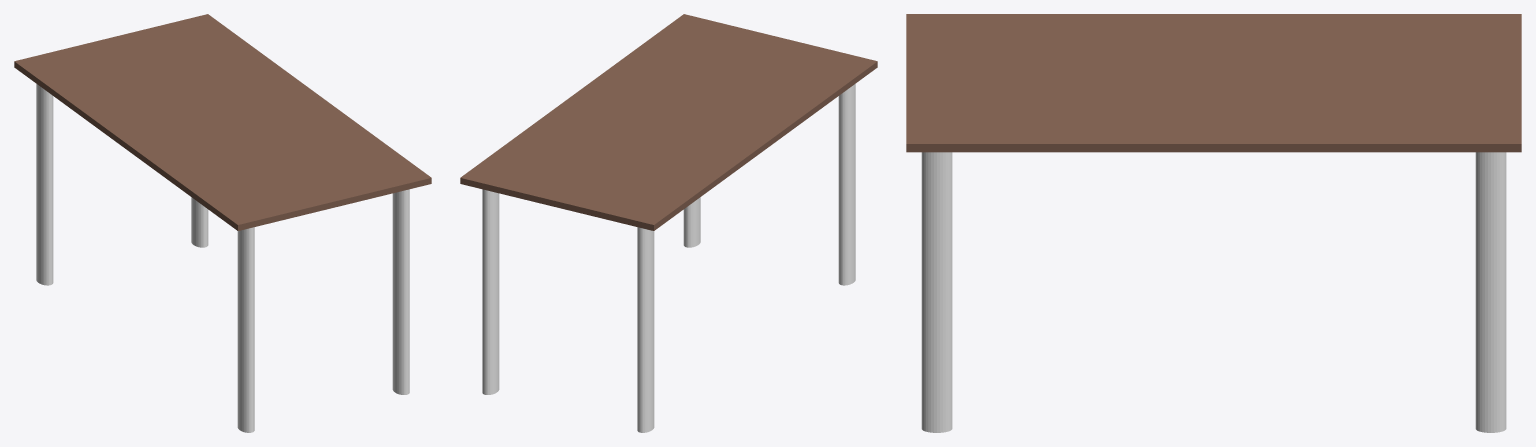
File: Tisch.fbx
3 renders of one model, left to right at view 1: azimuth 30°, elevation 25°; view 2: azimuth 150°, elevation 25°; view 3: azimuth 270°, elevation 25°, orthographic. The views are drawn at different scales.
Parts seen in each view (by area): view 1: Tischplatte; view 2: Tischplatte; view 3: Tischplatte.
Part boxes in pixels (bbox=[...]): Tischplatte: bbox=[14, 14, 431, 432]; Tischplatte: bbox=[460, 14, 877, 432]; Tischplatte: bbox=[906, 14, 1521, 432].
Size of the model in its own units: 100 by 107 by 200.
